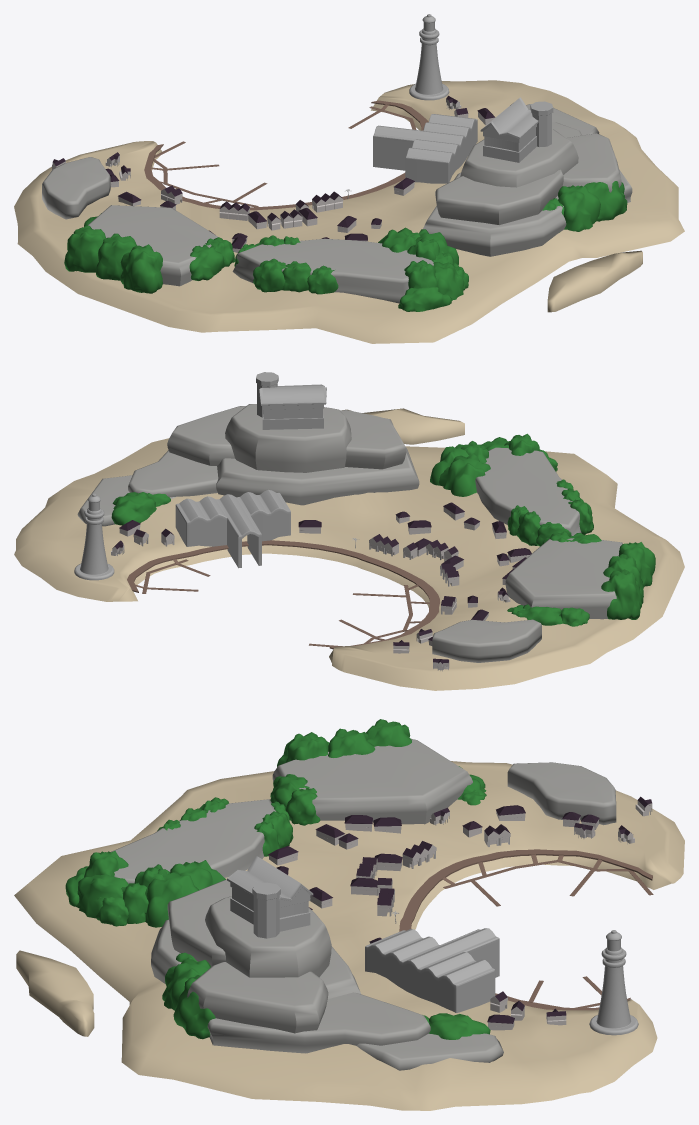
Rendered from Ile Principal Version 2 FP .fbx.
3 renders of one model, top to bottom at view 1: azimuth 30°, elevation 25°; view 2: azimuth 150°, elevation 25°; view 3: azimuth 270°, elevation 25°, orthographic. The views are drawn at different scales.
Visible parts, largest first — view 1: Mode_Ile_base1:Forme_globale, Mode_Ile_base1:Roche7, Hangar__Océane_:pCube9, Mode_Ile_base1:Roche8, Mode_Ile_base1:Roche1, Mode_Ile_base1:Roche4, Mode_Ile_base1:Roche2, Chateau_Main_Island:polySurface1, Mode_Ile_base1:Roche9, Mode_Ile_base1:Roche3, Phare__Océane_:pCylinder1, Group30432 (+15 smaller); view 2: Mode_Ile_base1:Forme_globale, Mode_Ile_base1:Roche8, Mode_Ile_base1:Roche2, Hangar__Océane_:pCube9, Mode_Ile_base1:Roche4, Mode_Ile_base1:Roche7, Mode_Ile_base1:Roche9, Chateau_Main_Island:polySurface1, Mode_Ile_base1:Roche5, Mode_Ile_base1:Roche1, Mode_Ile_base1:Roche3, Ponton_ (+12 smaller); view 3: Mode_Ile_base1:Forme_globale, Mode_Ile_base1:Roche8, Hangar__Océane_:pCube9, Mode_Ile_base1:Roche5, Mode_Ile_base1:Roche7, Mode_Ile_base1:Roche3, Mode_Ile_base1:Roche2, Mode_Ile_base1:Roche9, Chateau_Main_Island:polySurface1, Mode_Ile_base1:Roche6, Mode_Ile_base1:Roche1, Phare__Océane_:pCylinder1 (+17 smaller).
Part boxes in pixels (box(x1,y1,x2,y2)): Mode_Ile_base1:Forme_globale: box(14, 80, 684, 343); Mode_Ile_base1:Roche7: box(232, 238, 433, 303); Hangar__Océane_:pCube9: box(373, 114, 477, 183); Mode_Ile_base1:Roche8: box(88, 205, 217, 286); Mode_Ile_base1:Roche1: box(435, 169, 563, 224); Mode_Ile_base1:Roche4: box(423, 172, 566, 256); Mode_Ile_base1:Roche2: box(460, 129, 578, 187); Chateau_Main_Island:polySurface1: box(480, 97, 553, 162); Mode_Ile_base1:Roche9: box(42, 157, 110, 219); Mode_Ile_base1:Roche3: box(562, 133, 621, 192); Phare__Océane_:pCylinder1: box(409, 14, 449, 100); Group30432: box(120, 244, 162, 293); Mode_Ile_base1:Forme_globale: box(14, 408, 684, 690); Mode_Ile_base1:Roche8: box(505, 538, 622, 619); Mode_Ile_base1:Roche2: box(225, 404, 351, 472); Hangar__Océane_:pCube9: box(175, 489, 290, 568); Mode_Ile_base1:Roche4: box(216, 447, 419, 505); Mode_Ile_base1:Roche7: box(475, 447, 581, 535); Mode_Ile_base1:Roche9: box(432, 619, 541, 662); Chateau_Main_Island:polySurface1: box(256, 372, 326, 429); Mode_Ile_base1:Roche5: box(128, 450, 218, 497); Mode_Ile_base1:Roche1: box(340, 410, 406, 469); Mode_Ile_base1:Roche3: box(167, 406, 245, 465); Ponton_: box(127, 540, 439, 649); Mode_Ile_base1:Forme_globale: box(14, 761, 684, 1110); Mode_Ile_base1:Roche8: box(272, 738, 472, 824); Hangar__Océane_:pCube9: box(365, 928, 499, 1012); Mode_Ile_base1:Roche5: box(207, 992, 430, 1053); Mode_Ile_base1:Roche7: box(110, 799, 275, 883); Mode_Ile_base1:Roche3: box(187, 962, 328, 1033); Mode_Ile_base1:Roche2: box(205, 896, 331, 977); Mode_Ile_base1:Roche9: box(507, 762, 616, 825); Chateau_Main_Island:polySurface1: box(227, 856, 313, 938); Mode_Ile_base1:Roche6: box(356, 1033, 503, 1070); Mode_Ile_base1:Roche1: box(167, 879, 231, 966); Phare__Océane_:pCylinder1: box(589, 930, 638, 1035).
Size of the model in its own units: 505 by 99.4 by 414.
